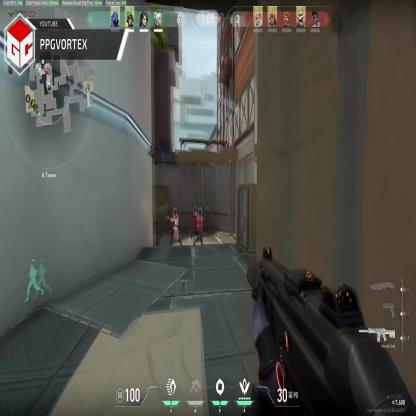enemy: (168, 208, 181, 247), (192, 207, 204, 246), (191, 204, 199, 241)
enemy_head: (197, 207, 203, 215), (172, 207, 177, 216), (192, 204, 197, 212)
